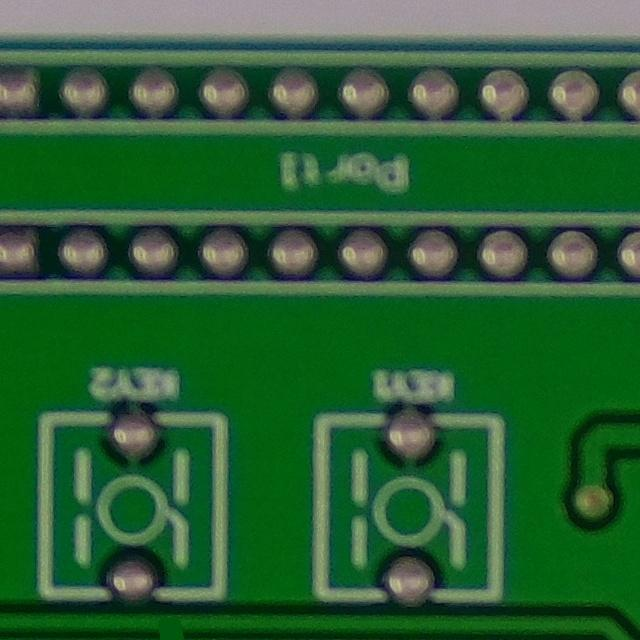short: (123, 600, 212, 640)
